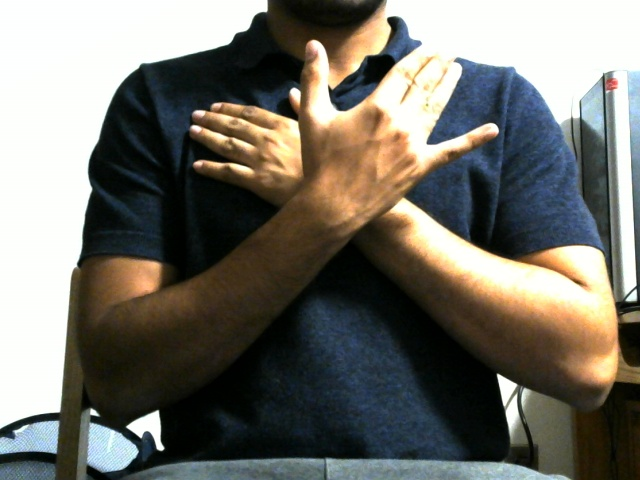blood: (160, 25, 546, 255)
